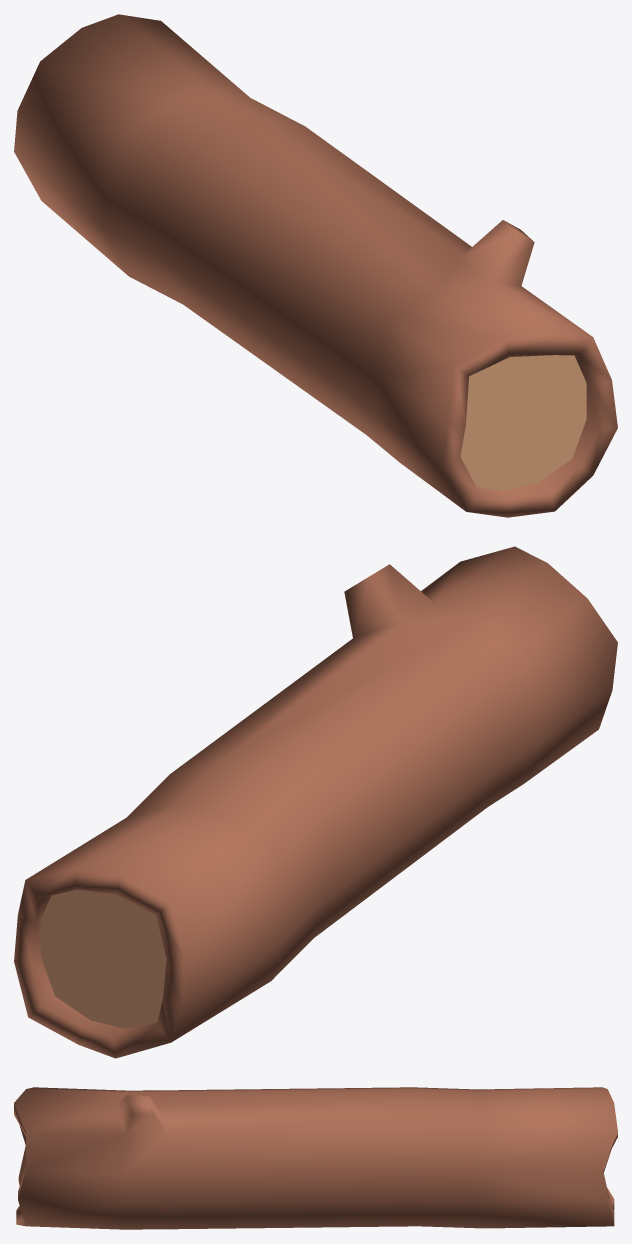
The model's file is treetrunk.fbx.
The picture shows the model from 3 angles, top to bottom: view 1: azimuth 30°, elevation 25°; view 2: azimuth 150°, elevation 25°; view 3: azimuth 270°, elevation 25°; orthographic projection. The views are drawn at different scales.
Parts seen in each view (by area): view 1: MSH_Trunk; view 2: MSH_Trunk; view 3: MSH_Trunk.
Part boxes in pixels (x1,y1,x2,y2): MSH_Trunk: [14, 14, 617, 517]; MSH_Trunk: [14, 546, 617, 1058]; MSH_Trunk: [14, 1087, 617, 1229].
Size of the model in its own units: 213 by 243 by 899.
